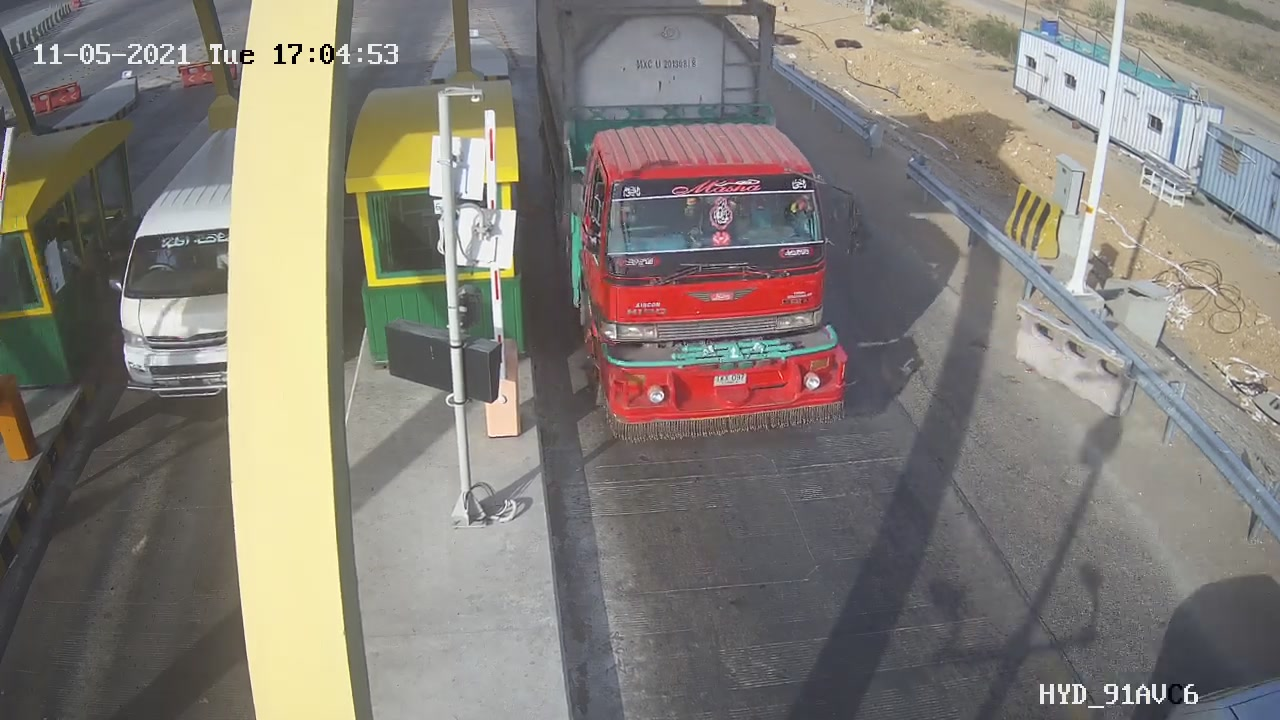F6: (524, 1, 885, 468)
